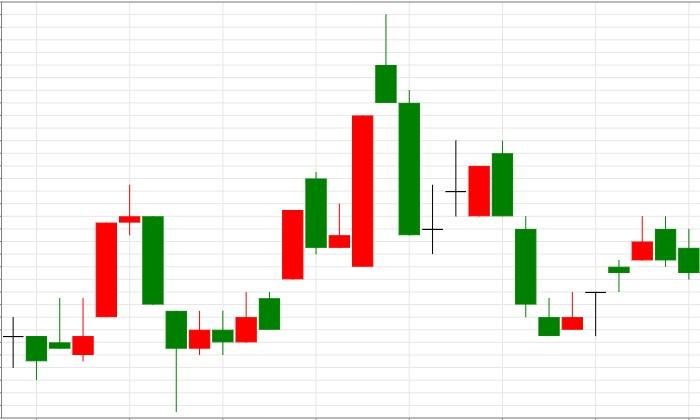evening_star_fall: (26, 185, 164, 379)
